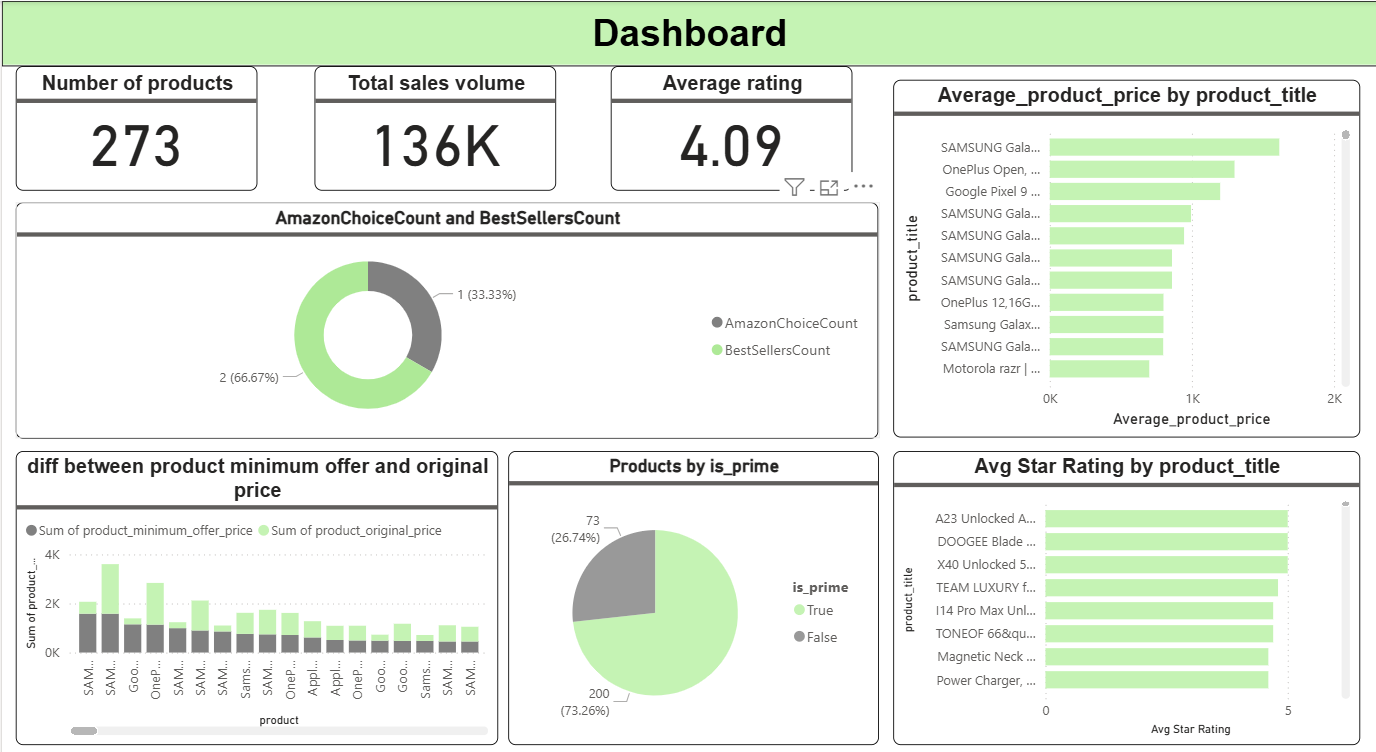

The page's visual inventory and layout, read from the dashboard file:
{"tool":"powerbi","page":{"name":"Page 1","canvas":[1280,720],"ordinal":0},"visuals":[{"type":"card","title":"Number of products","fields":{"Values":["phone search.TotalProducts"]},"box":[13.2,60.5,225,115.8],"z":0},{"type":"card","title":"Total sales volume","fields":{"Values":["Sum(phone search.sales_volume)"]},"box":[290.8,60.5,225,115.8],"z":1000},{"type":"card","title":"Average rating","fields":{"Values":["phone search.Avg Star Rating"]},"box":[565.8,60.5,225,115.8],"z":2000},{"type":"shape","box":[0,0,1280.3,60.5],"z":3000},{"type":"barChart","fields":{"Category":["phone search.product_title"],"Y":["phone search.Average_product_price"]},"box":[828.9,73.7,434.2,332.9],"z":4000},{"type":"barChart","fields":{"Y":["phone search.Avg Star Rating"],"Category":["phone search.product_title"]},"box":[828.9,418.4,434.2,273.7],"z":5000},{"type":"pieChart","fields":{"Category":["phone search.is_prime"],"Y":["phone search.TotalProducts"]},"box":[471.1,418.4,344.7,273.7],"z":6000},{"type":"columnChart","title":"diff between product minimum offer and original price","fields":{"Category":["phone search.product_title"],"Y":["Sum(phone search.product_minimum_offer_price)","Sum(phone search.product_original_price)"]},"box":[13.2,418.4,448.7,273.7],"z":7000},{"type":"donutChart","fields":{"Y":["phone search.AmazonChoiceCount","phone search.BestSellersCount"]},"box":[13.2,186.8,802.6,219.7],"z":7001}]}

Visuals, with their boxes in screenshot pixels (x1, y1, x2, y2), scaled from the page's 1280x720 canvas onto the 1376x752 screenshot:
"Number of products" card: crop(14, 63, 256, 184)
"Total sales volume" card: crop(313, 63, 554, 184)
"Average rating" card: crop(608, 63, 850, 184)
shape: crop(0, 0, 1375, 63)
barChart - phone search.product_title x phone search.Average_product_price: crop(891, 77, 1358, 425)
barChart - phone search.Avg Star Rating x phone search.product_title: crop(891, 437, 1358, 723)
pieChart - phone search.is_prime x phone search.TotalProducts: crop(506, 437, 877, 723)
"diff between product minimum offer and original price" columnChart: crop(14, 437, 497, 723)
donutChart - phone search.AmazonChoiceCount x phone search.BestSellersCount: crop(14, 195, 877, 425)
